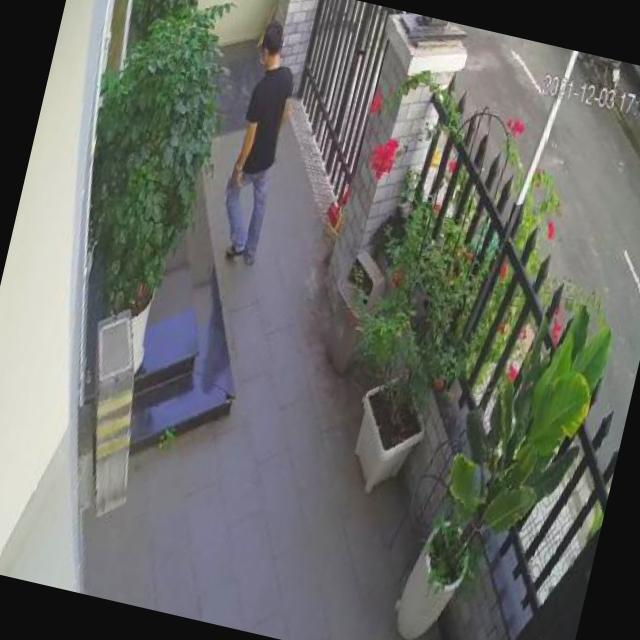Person: (208, 20, 310, 270)
